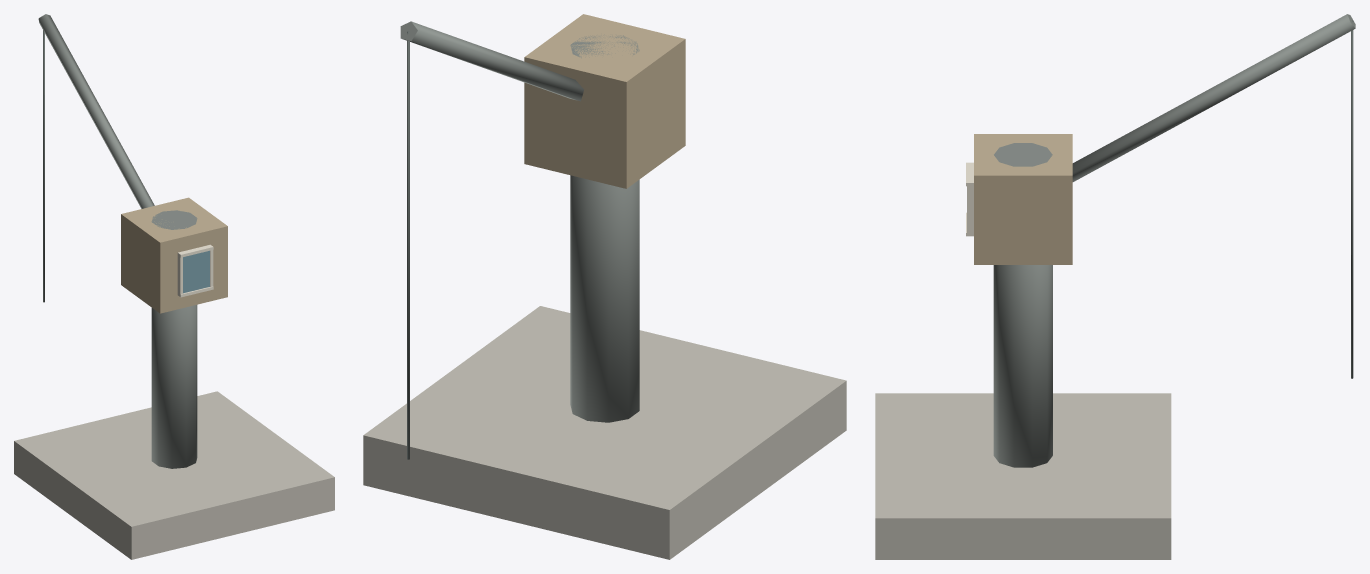
The model's file is rhine-crane_lod1.glb.
The picture shows the model from 3 angles, left to right: view 1: azimuth 30°, elevation 25°; view 2: azimuth 150°, elevation 25°; view 3: azimuth 270°, elevation 25°; orthographic projection. The views are drawn at different scales.
Visible parts, largest first — view 1: RF_HarbourBase, RF_CraneTower, RF_CraneCab, RF_CraneBoom, RF_Window, RF_CraneCable; view 2: RF_HarbourBase, RF_CraneCab, RF_CraneTower, RF_CraneBoom, RF_CraneCable; view 3: RF_HarbourBase, RF_CraneTower, RF_CraneCab, RF_CraneBoom, RF_CraneCable.
Boxes of the visible parts, left/top/right/bottom form: RF_HarbourBase: left=14, top=391, right=334, bottom=559; RF_CraneTower: left=151, top=210, right=197, bottom=468; RF_CraneCab: left=121, top=197, right=227, bottom=313; RF_CraneBoom: left=38, top=14, right=154, bottom=208; RF_Window: left=183, top=250, right=209, bottom=293; RF_CraneCable: left=43, top=30, right=44, bottom=302; RF_HarbourBase: left=363, top=306, right=846, bottom=559; RF_CraneCab: left=524, top=14, right=685, bottom=188; RF_CraneTower: left=570, top=34, right=639, bottom=422; RF_CraneBoom: left=400, top=21, right=583, bottom=101; RF_CraneCable: left=407, top=31, right=409, bottom=459; RF_HarbourBase: left=875, top=393, right=1171, bottom=559; RF_CraneTower: left=993, top=143, right=1052, bottom=467; RF_CraneCab: left=974, top=134, right=1072, bottom=264; RF_CraneBoom: left=1072, top=14, right=1355, bottom=181; RF_CraneCable: left=1351, top=20, right=1353, bottom=378.
Size of the model in its own units: 9 by 16.23 by 14.61.
